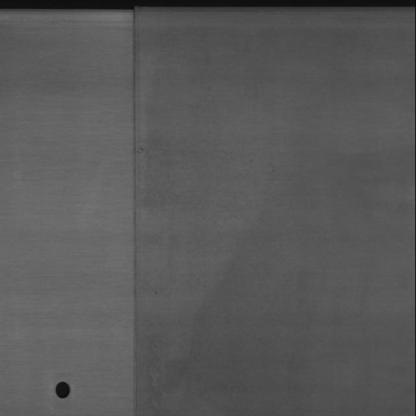punching_hole: (54, 377, 76, 401)
welding_line: (116, 1, 147, 414)
